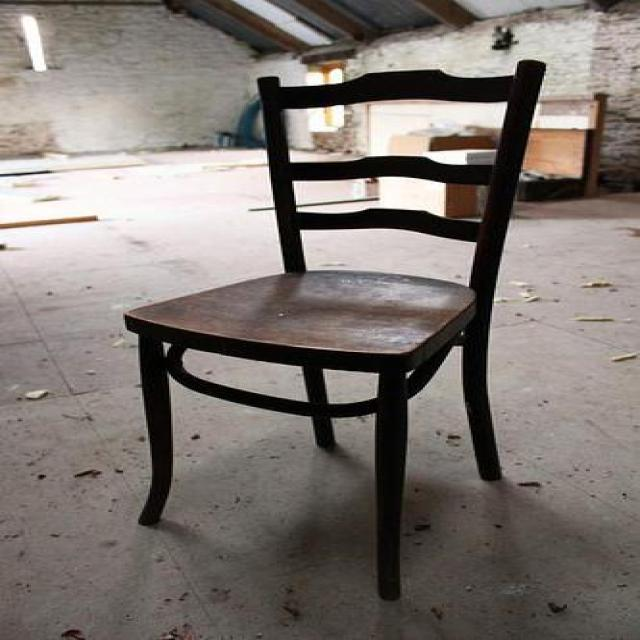chair: (121, 59, 546, 600)
